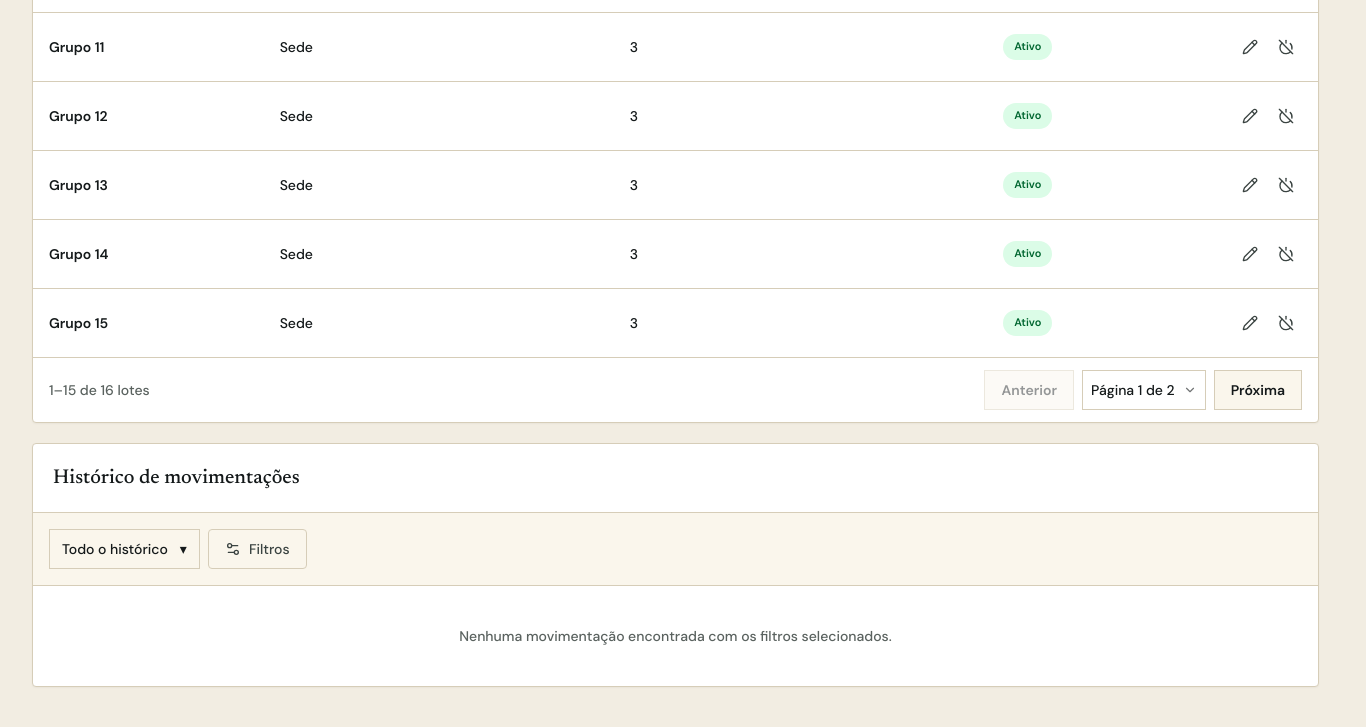
Test: Lotes do rebanho › ajusta a página quando a recarga reduz a lista
(page scrolled)
Step 1. Click the button "Próxima" → (1258, 390), box [1214,370,1302,410]
(page scrolled)
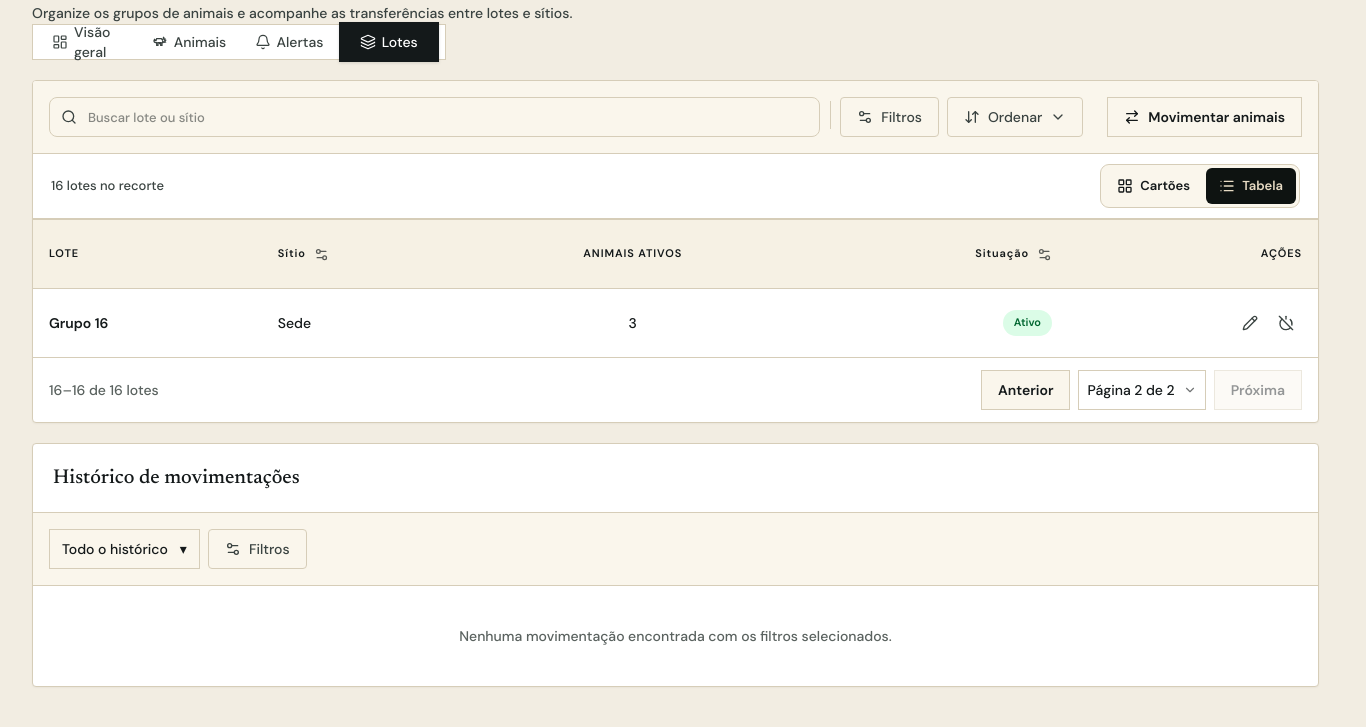
Step 2. Click the button named "Desativar Grupo 16" → (1286, 323), box [1270,305,1302,341]
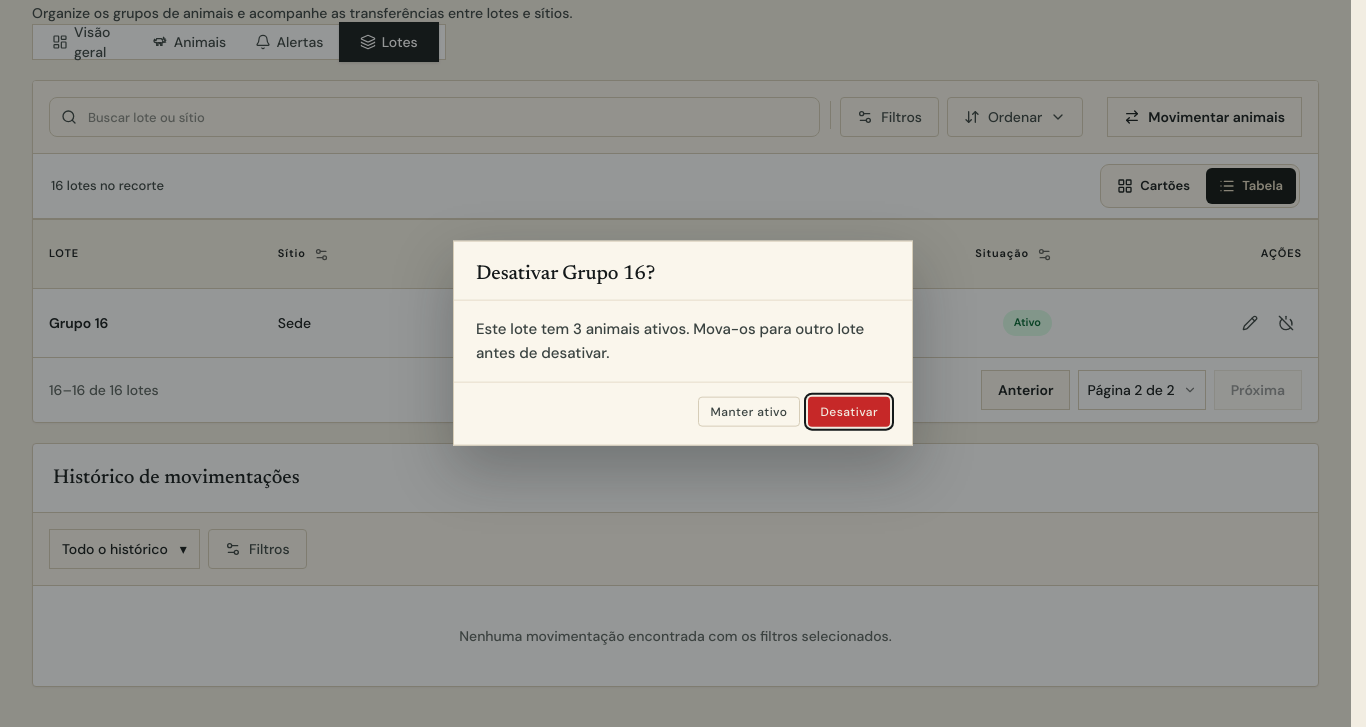
Step 3. Click the button "Desativar" → (849, 411), box [808,396,890,426]
(page scrolled)
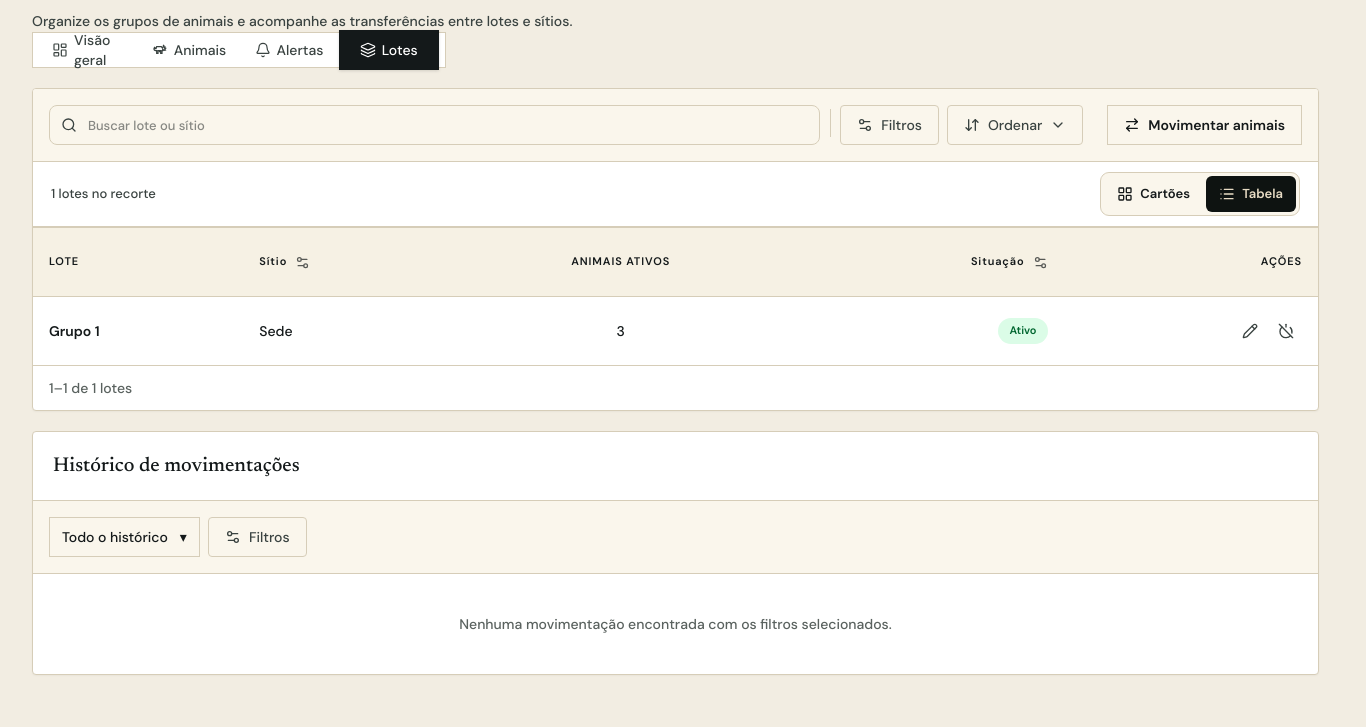
Check: the text "Grupo 1" is shown, box [49,322,100,340]
Check: the button "Anterior" is gone
